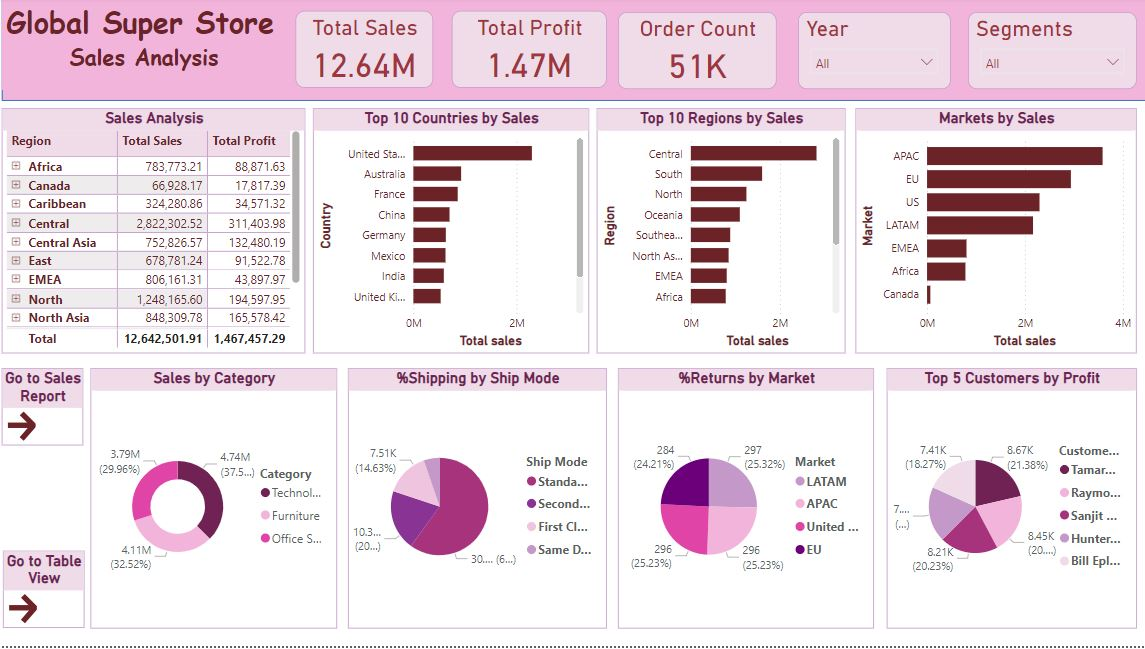

Layout of this report page (visuals, bound fields, positions):
{"tool":"powerbi","page":{"name":"Sales Analysis","canvas":[1280,720],"ordinal":0},"visuals":[{"type":"shape","box":[9.6,0,1270.7,115.3],"z":0},{"type":"textbox","box":[9.6,0,315.6,102.9],"z":1000},{"type":"card","title":"Total Sales","fields":{"Values":["Orders.Total sales"]},"box":[335.7,15.3,152.6,86],"z":2000},{"type":"card","title":"Total Profit","fields":{"Values":["Orders.Total Profit"]},"box":[509.1,15.3,172,86],"z":3000},{"type":"card","title":"Order Count","fields":{"Values":["Orders.Order Count"]},"box":[693.5,16.6,176.2,86],"z":4000},{"type":"slicer","title":"Year","fields":{"Values":["Orders.Order Date.Variation.Date Hierarchy.Year"]},"box":[893.3,16.6,169.2,86],"z":5000},{"type":"pivotTable","title":"Sales Analysis","fields":{"Values":["Orders.Total sales","Orders.Total Profit"],"Rows":["Orders.Region Hierarchy.Region","Orders.Region Hierarchy.Market","Orders.Region Hierarchy.Country"]},"box":[9.7,123.5,337.1,271.9],"z":6000},{"type":"clusteredBarChart","title":"Top 10 Countries by Sales","fields":{"Category":["Orders.Country"],"Y":["Orders.Total sales"]},"box":[355.1,123.5,306.5,271.9],"z":7000},{"type":"clusteredBarChart","title":"Markets by Sales","fields":{"Y":["Orders.Total sales"],"Category":["Orders.Market"]},"box":[957.1,123.5,312.1,271.9],"z":8000},{"type":"clusteredBarChart","title":"Top 10 Regions by Sales","fields":{"Y":["Orders.Total sales"],"Category":["Orders.Region"]},"box":[670,123.5,276,271.9],"z":9000},{"type":"donutChart","title":"Sales by Category","fields":{"Category":["Orders.Category"],"Y":["Orders.Total sales"]},"box":[108.2,412,273.3,288.5],"z":10000},{"type":"pieChart","title":"%Shipping by Ship Mode","fields":{"Y":["Orders.Order ID"],"Category":["Orders.Ship Mode"]},"box":[393.9,412,287.1,288.5],"z":11000},{"type":"actionButton","title":"Go to Table View","box":[11.1,614.5,90.2,86],"z":12000},{"type":"pieChart","title":"%Returns by Market","fields":{"Category":["Returns.Market"],"Y":["Returns.Order ID"]},"box":[693.5,412,284.4,288.5],"z":13000},{"type":"pieChart","title":"Top 5 Customers by Profit","fields":{"Category":["Orders.Customer Name"],"Y":["Orders.Profit"]},"box":[991.8,412,277.4,288.5],"z":14000},{"type":"actionButton","title":"Go to Sales Report","box":[9.7,412,90.2,86],"z":15000},{"type":"slicer","title":"Segments","fields":{"Values":["Orders.Region Hierarchy.Region","Orders.Region Hierarchy.Market","Orders.Region Hierarchy.Country"]},"box":[1081.9,16.6,187.3,86],"z":15001}]}

Visuals, with their boxes in screenshot pixels (x1, y1, x2, y2), scaled from the page's 1280x720 canvas onto the 1145x649 screenshot:
shape: l=9, t=0, r=1144, b=104
textbox: l=9, t=0, r=291, b=93
"Total Sales" card: l=300, t=14, r=437, b=91
"Total Profit" card: l=455, t=14, r=609, b=91
"Order Count" card: l=620, t=15, r=778, b=92
"Year" slicer: l=799, t=15, r=950, b=92
"Sales Analysis" pivotTable: l=9, t=111, r=310, b=356
"Top 10 Countries by Sales" clusteredBarChart: l=318, t=111, r=592, b=356
"Markets by Sales" clusteredBarChart: l=856, t=111, r=1135, b=356
"Top 10 Regions by Sales" clusteredBarChart: l=599, t=111, r=846, b=356
"Sales by Category" donutChart: l=97, t=371, r=341, b=631
"%Shipping by Ship Mode" pieChart: l=352, t=371, r=609, b=631
"Go to Table View" actionButton: l=10, t=554, r=91, b=631
"%Returns by Market" pieChart: l=620, t=371, r=875, b=631
"Top 5 Customers by Profit" pieChart: l=887, t=371, r=1135, b=631
"Go to Sales Report" actionButton: l=9, t=371, r=89, b=449
"Segments" slicer: l=968, t=15, r=1135, b=92
